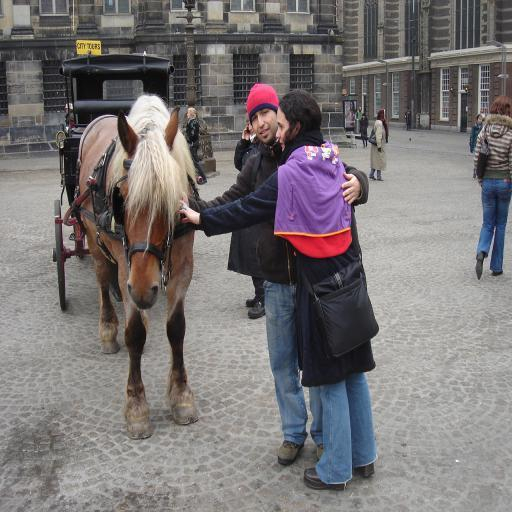horse: (74, 90, 196, 446)
